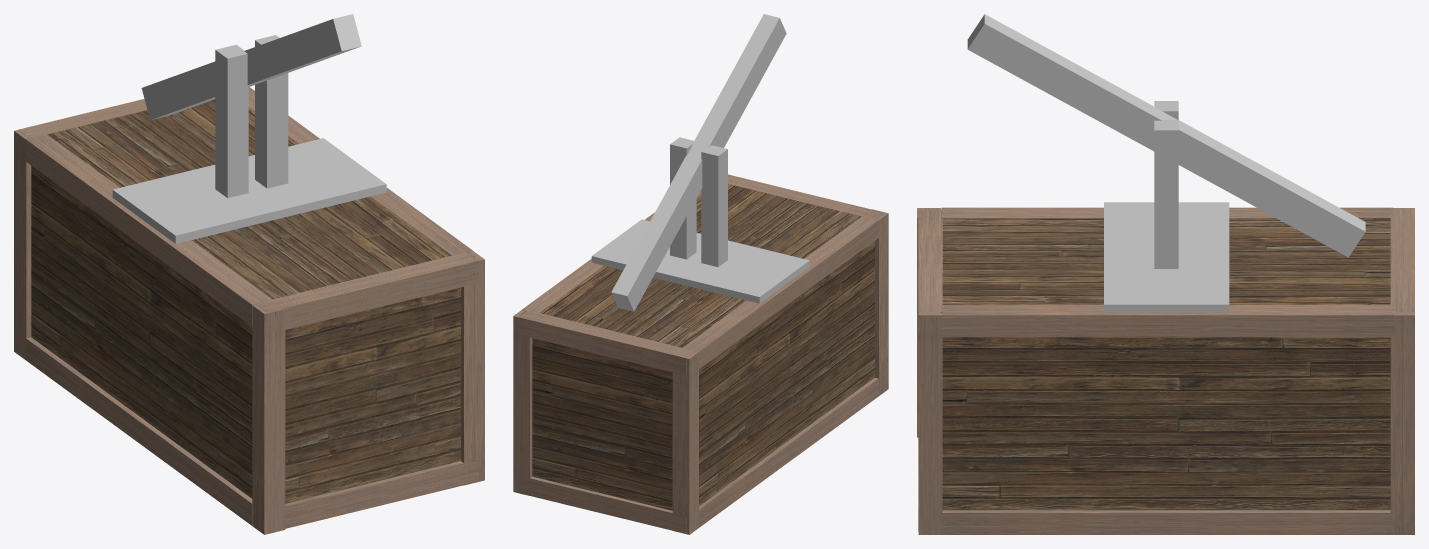
Rendered from Amazonie_Piege.fbx.
3 views of the same model, side by side, from view 1: azimuth 30°, elevation 25°; view 2: azimuth 150°, elevation 25°; view 3: azimuth 270°, elevation 25° (orthographic). The views are drawn at different scales.
Visible parts, largest first — view 1: Piege_ExportMod; view 2: Piege_ExportMod; view 3: Piege_ExportMod.
Part boxes in pixels (x1,y1,x2,y2): Piege_ExportMod: [14, 14, 484, 534]; Piege_ExportMod: [513, 14, 888, 534]; Piege_ExportMod: [917, 14, 1414, 534].
Size of the model in its own units: 210 by 422 by 411.
